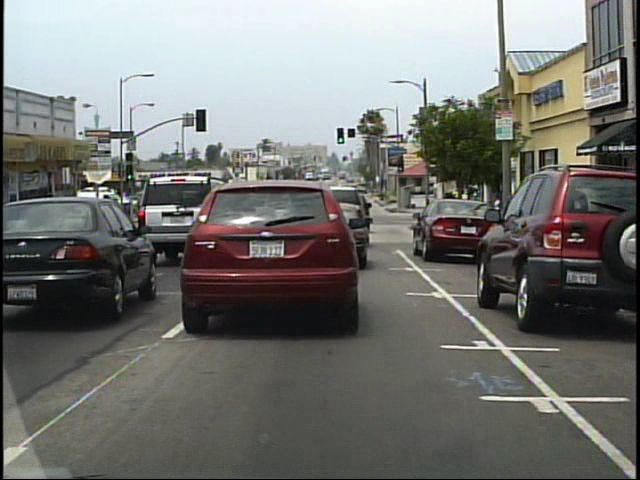person: (458, 192, 471, 233), (468, 190, 482, 224), (448, 193, 459, 233)
